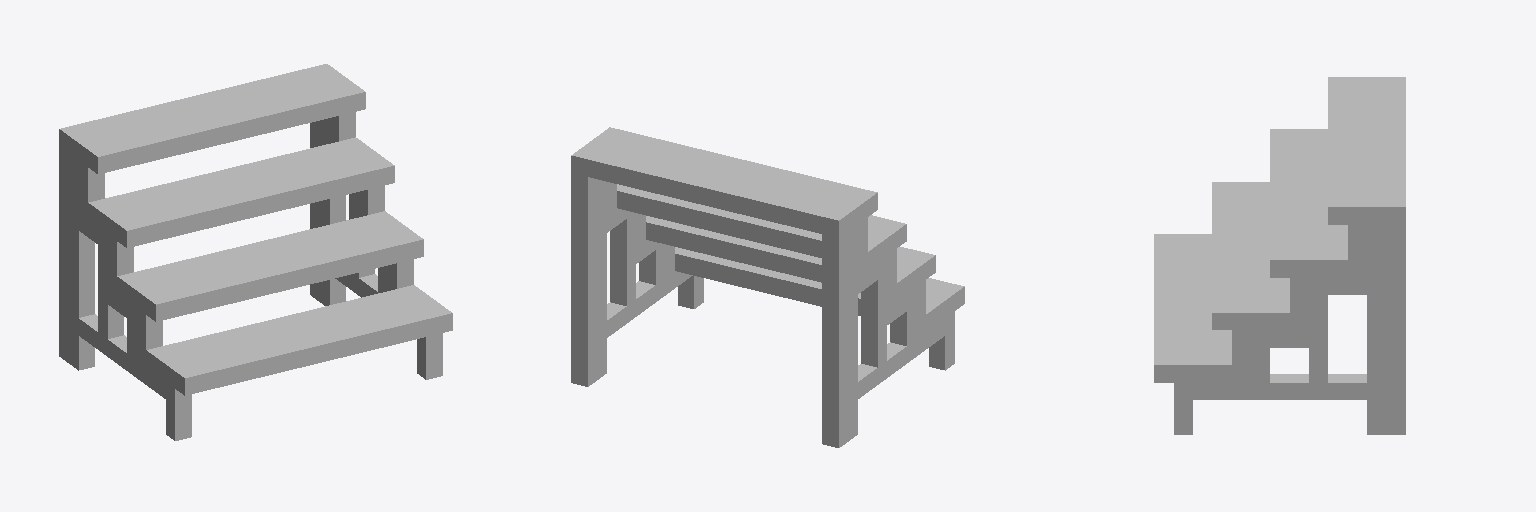
Rendered from Menu Scene 03-12.obj.
The picture shows the model from 3 angles: view 1: azimuth 30°, elevation 25°; view 2: azimuth 150°, elevation 25°; view 3: azimuth 270°, elevation 25°; orthographic projection.
Visible parts, largest first — view 1: Menu Scene 03-12; view 2: Menu Scene 03-12; view 3: Menu Scene 03-12.
Boxes of the visible parts, box(x1,y1,x2,y2) form: Menu Scene 03-12: box(59, 64, 452, 440); Menu Scene 03-12: box(571, 127, 964, 447); Menu Scene 03-12: box(1154, 77, 1405, 434).
Size of the model in its own units: 16 by 13 by 13.